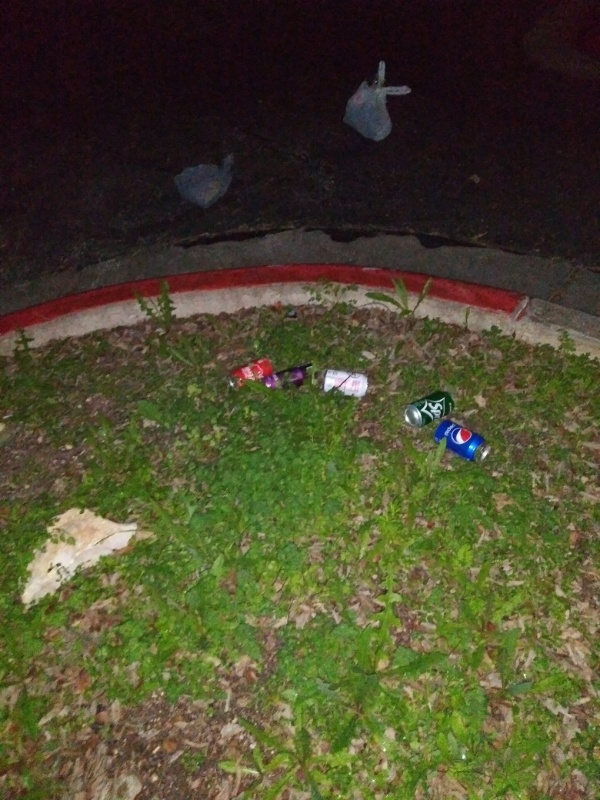can: (432, 415, 493, 466), (401, 388, 458, 429), (264, 359, 321, 398), (228, 356, 276, 390)
